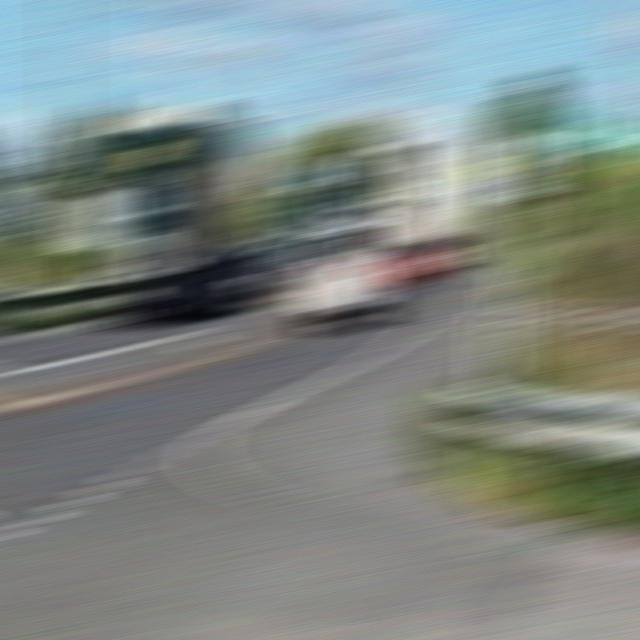speedLimit45: (502, 133, 552, 198)
